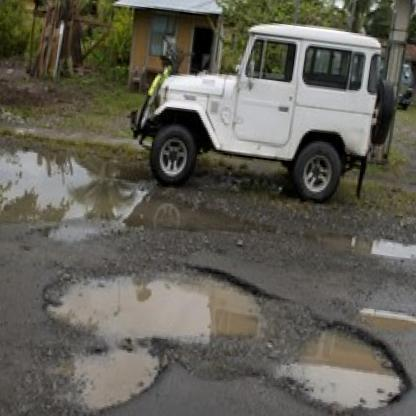pothole: (36, 242, 275, 365), (266, 305, 416, 416), (16, 329, 166, 416), (355, 305, 416, 341)
